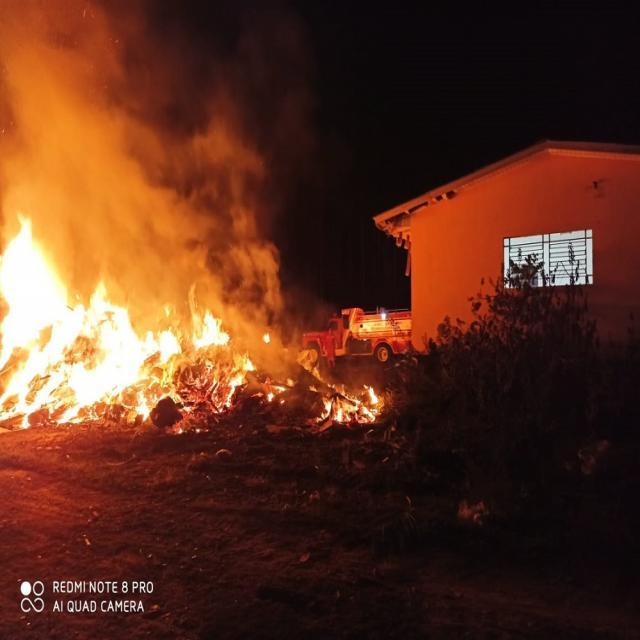Fire: (2, 213, 182, 421), (320, 386, 379, 432), (192, 307, 232, 348), (226, 354, 253, 411)
